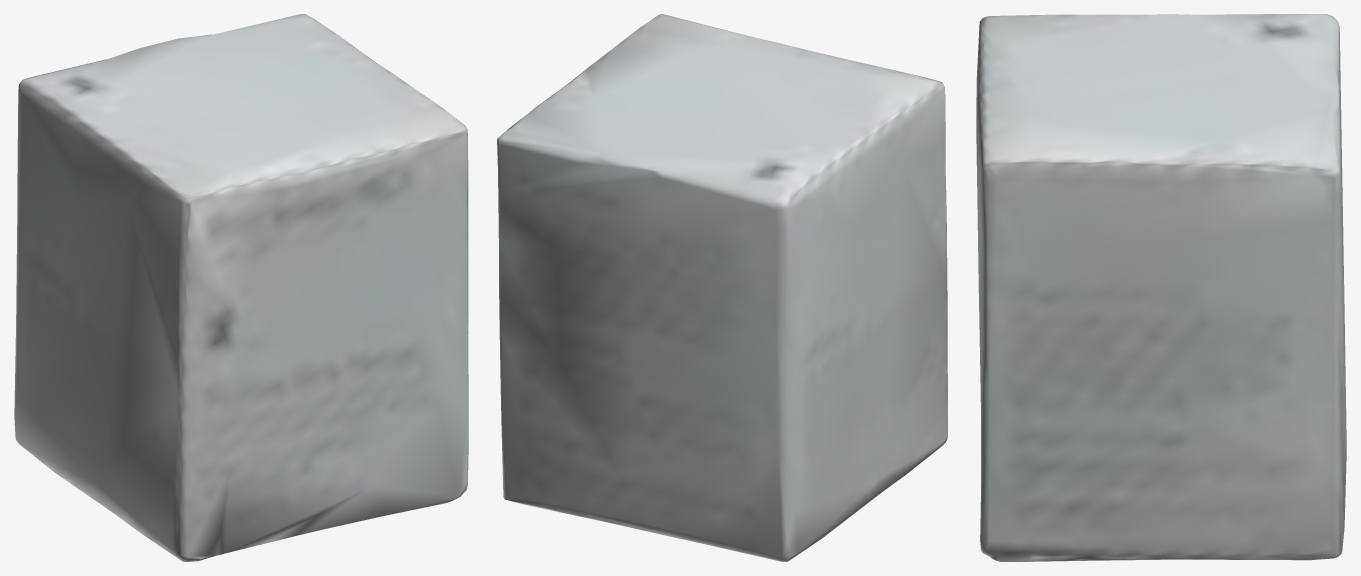
Rendered from Perricone_MD_Firming_Neck_Therapy_Treatment-medium.glb.
3 views of the same model, side by side, from view 1: azimuth 30°, elevation 25°; view 2: azimuth 150°, elevation 25°; view 3: azimuth 270°, elevation 25° (orthographic). The views are drawn at different scales.
Visible parts, largest first — view 1: Perricone_MD_Firming_Neck_Therapy_Treatment; view 2: Perricone_MD_Firming_Neck_Therapy_Treatment; view 3: Perricone_MD_Firming_Neck_Therapy_Treatment.
Part boxes in pixels (box(x1,y1,x2,y2)): Perricone_MD_Firming_Neck_Therapy_Treatment: box(14, 14, 468, 561); Perricone_MD_Firming_Neck_Therapy_Treatment: box(497, 14, 947, 561); Perricone_MD_Firming_Neck_Therapy_Treatment: box(976, 14, 1346, 561).
Bounding box in the file's own units: 0.0613 × 0.0732 × 0.061.
1 material, 1 textured.
